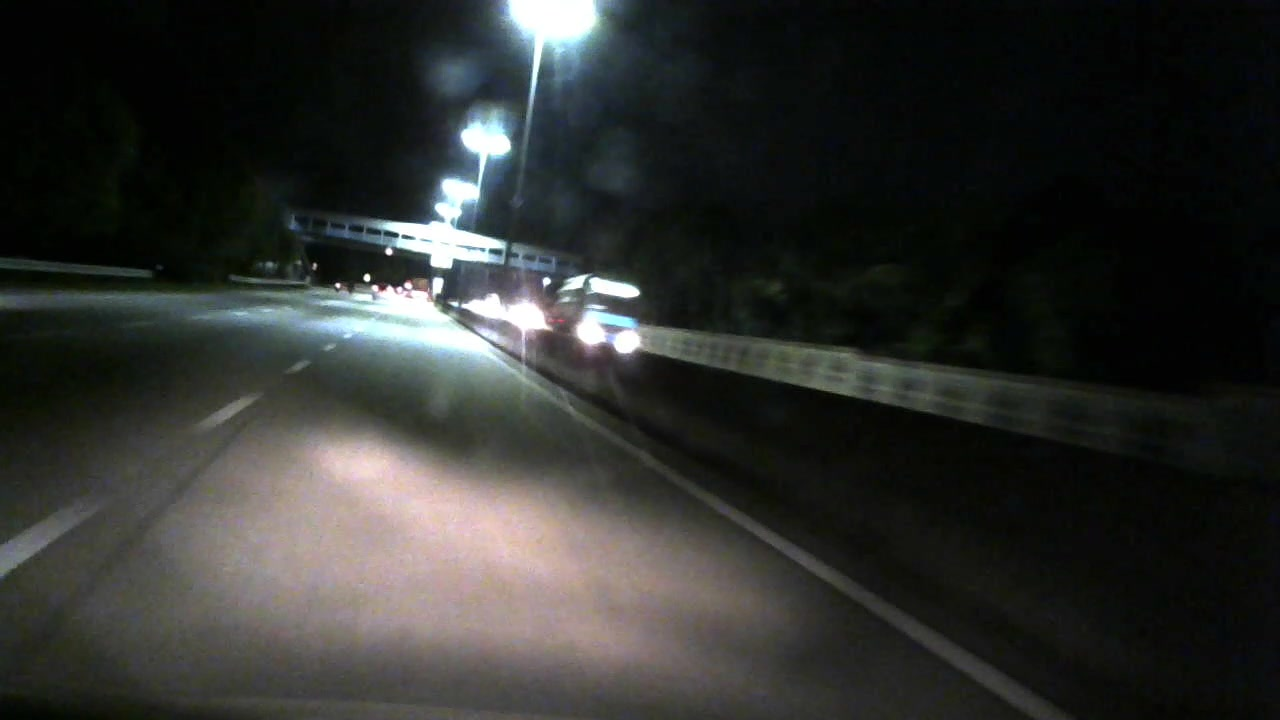Car: (350, 276, 384, 306)
